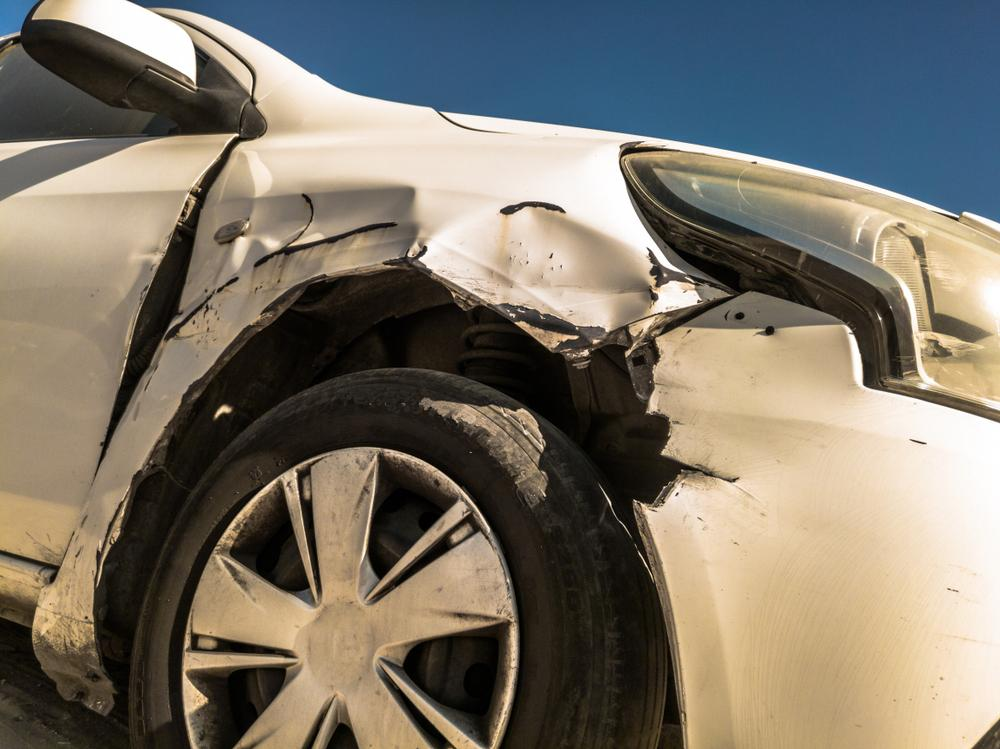crack: (652, 454, 741, 505)
dent: (218, 184, 657, 356)
